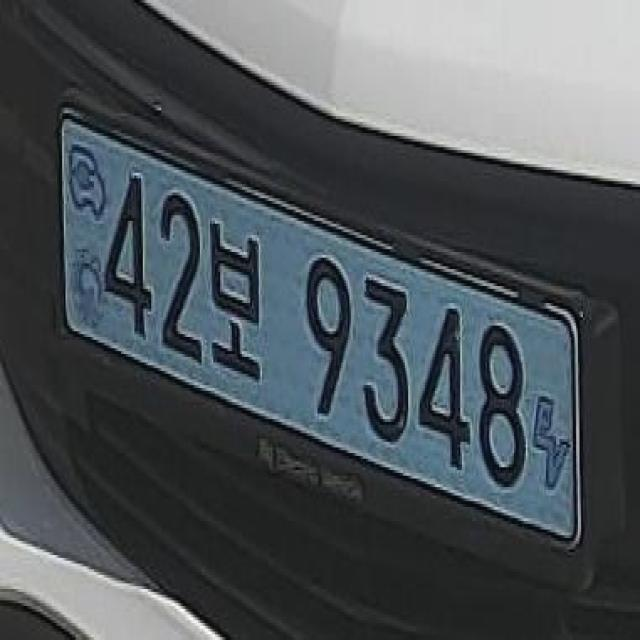EV_plate: (49, 113, 595, 560)
